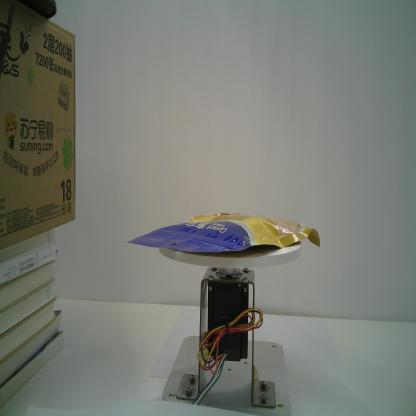Dried Fruit: (125, 210, 322, 257)
